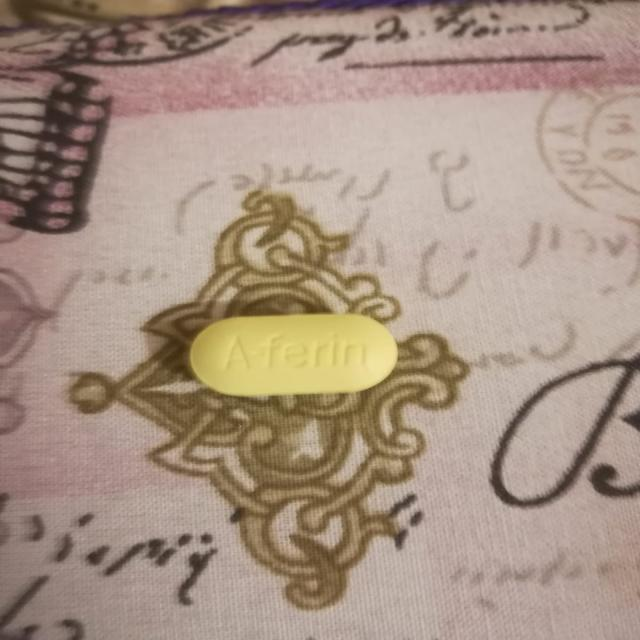pills: (180, 303, 406, 404)
